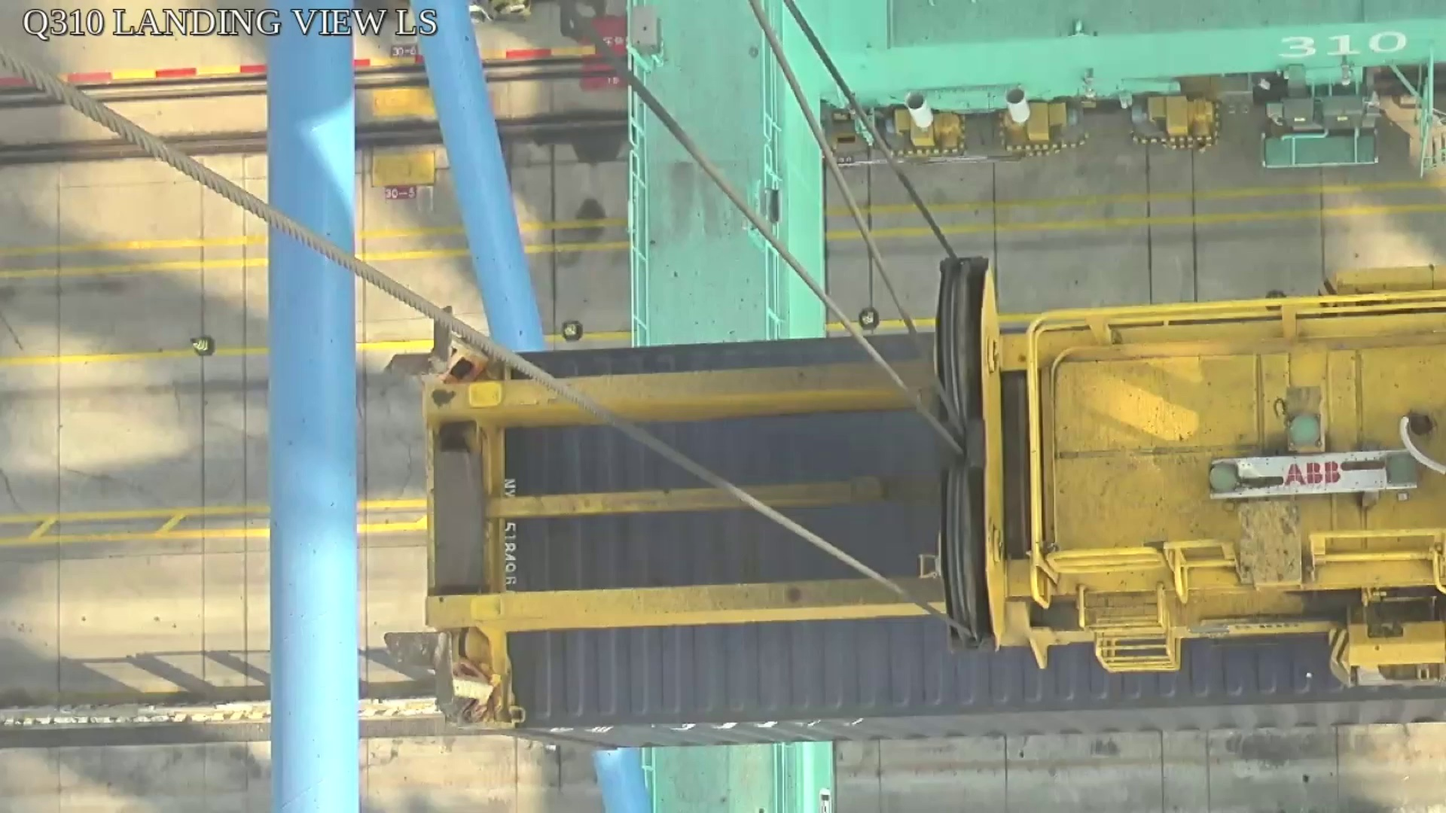aa: (935, 257, 1004, 656)
